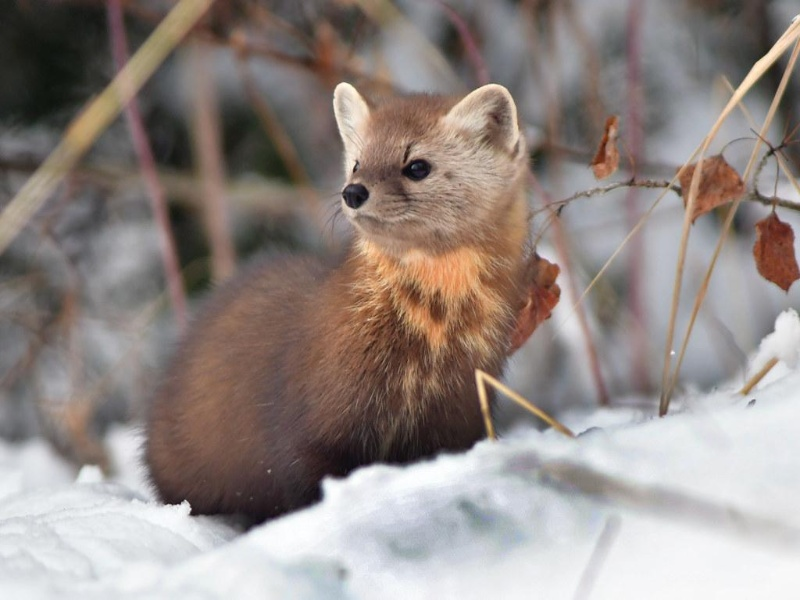minkish: (136, 82, 533, 523)
